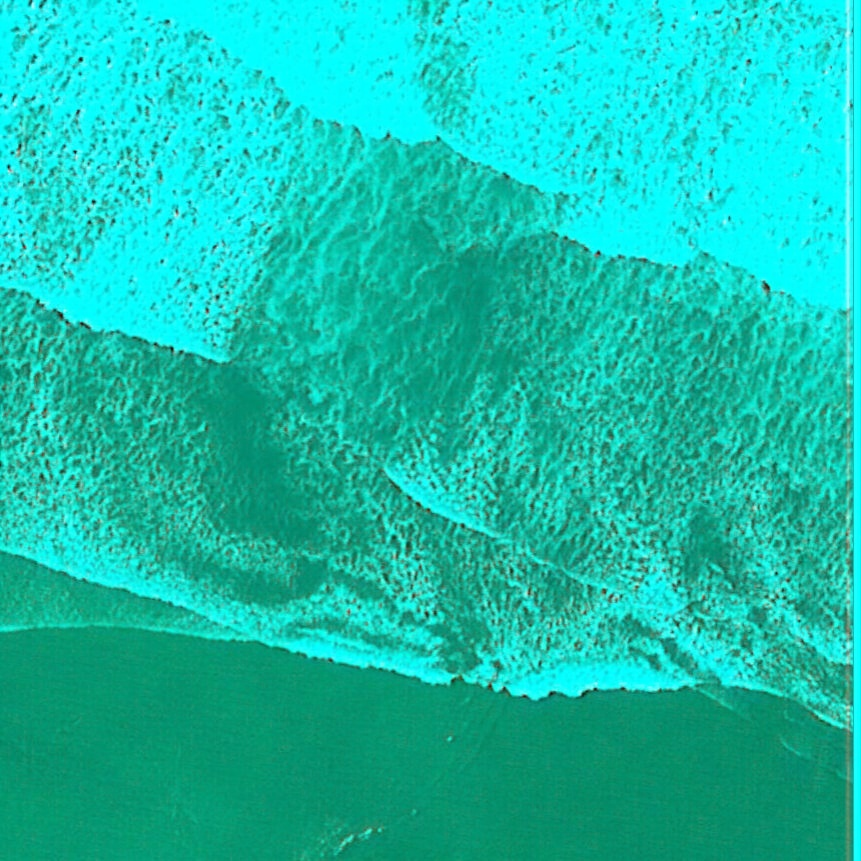rip_current: (163, 76, 528, 588)
